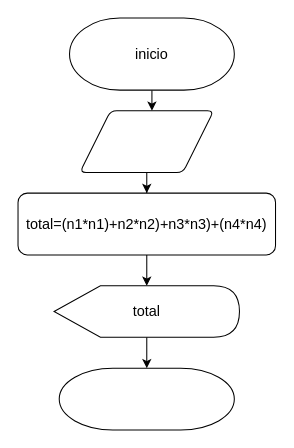
The diagram is 294 pixels wide and 448 high, and some of its shapes have lost their labels. Each missing label, with the box of its shape:
fim: (58, 367, 234, 430)
n1,n2,n3,n4: (79, 110, 214, 173)
